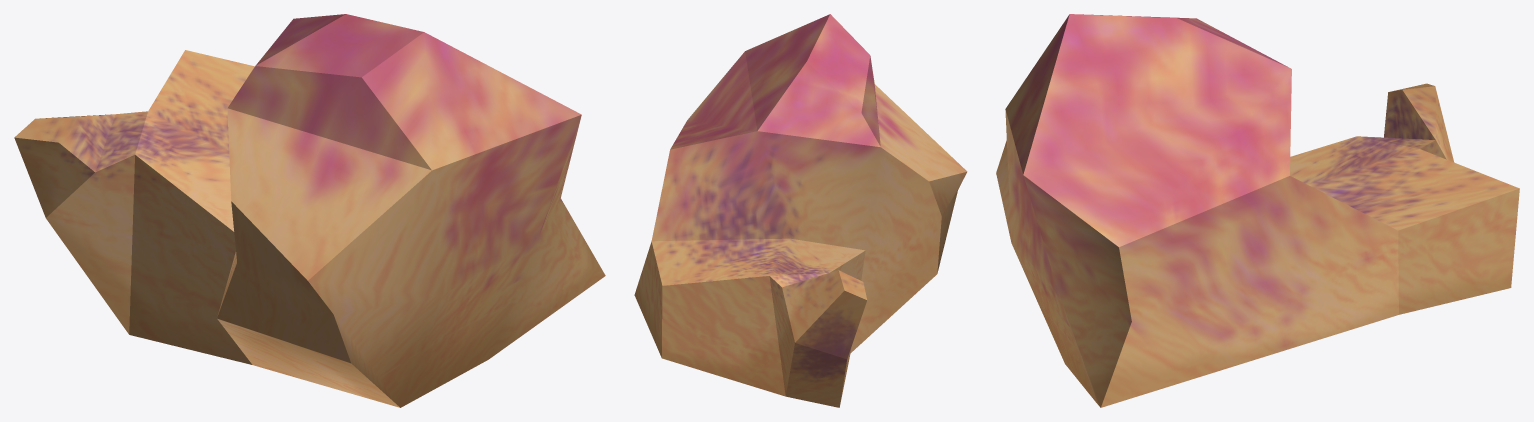
The model's file is Rock_Three.fbx.
The picture shows the model from 3 angles, left to right: view 1: azimuth 30°, elevation 25°; view 2: azimuth 150°, elevation 25°; view 3: azimuth 270°, elevation 25°; orthographic projection. The views are drawn at different scales.
Parts seen in each view (by area): view 1: pCube3; view 2: pCube3; view 3: pCube3.
Part boxes in pixels (x1=…): pCube3: x1=14, y1=14, x2=605, y2=407; pCube3: x1=634, y1=14, x2=967, y2=407; pCube3: x1=996, y1=14, x2=1519, y2=407.
Size of the model in its own units: 2.73 by 2.26 by 2.95.
1 material, 1 textured.
